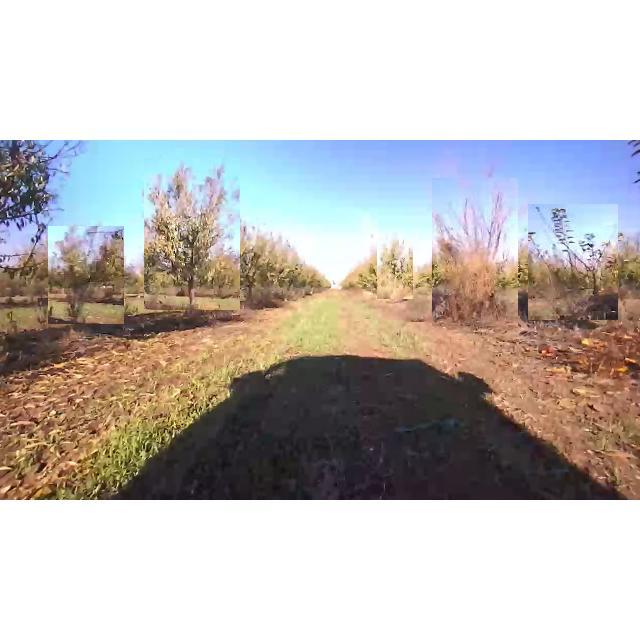direk: (144, 158, 240, 310), (432, 178, 518, 326), (528, 204, 618, 320), (48, 226, 124, 324), (226, 230, 272, 306), (377, 239, 413, 299)
